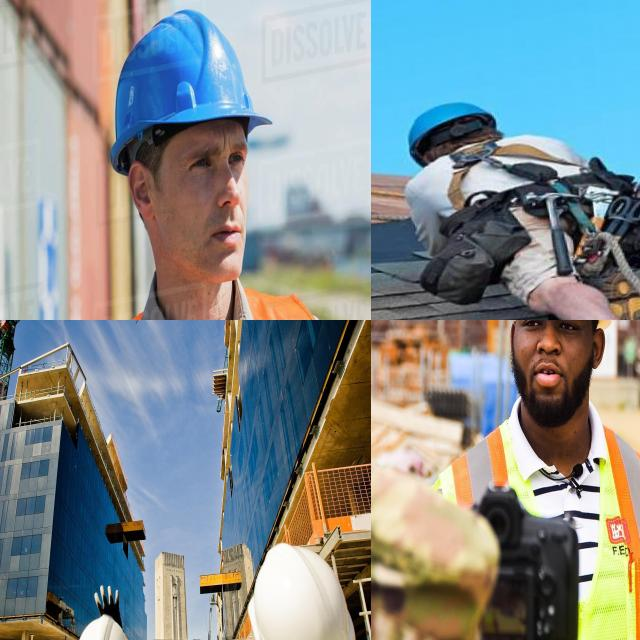Harness: (441, 141, 595, 282)
No_Ear-Protection: (125, 152, 157, 228), (589, 324, 608, 375)
No_Glasses: (175, 133, 251, 191), (517, 320, 586, 347)
face_nomask: (152, 130, 266, 282)
head_helmet: (102, 1, 270, 134), (247, 542, 355, 640), (70, 613, 130, 640)
person: (26, 0, 371, 320)
